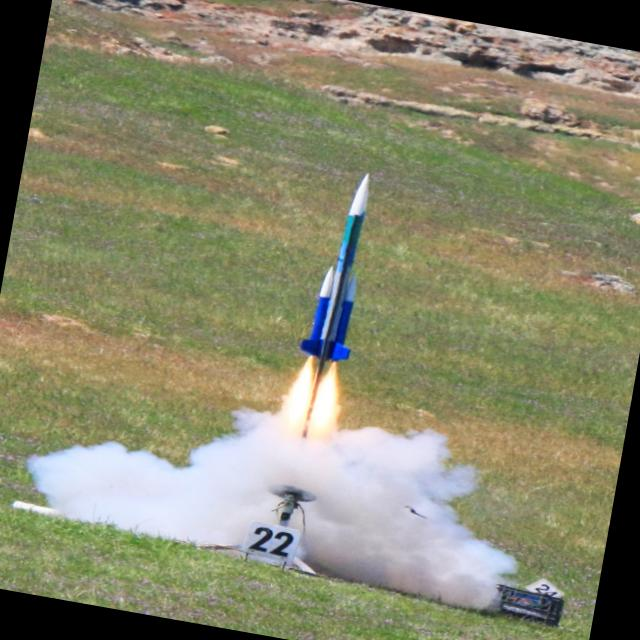rocket: (259, 158, 389, 508)
